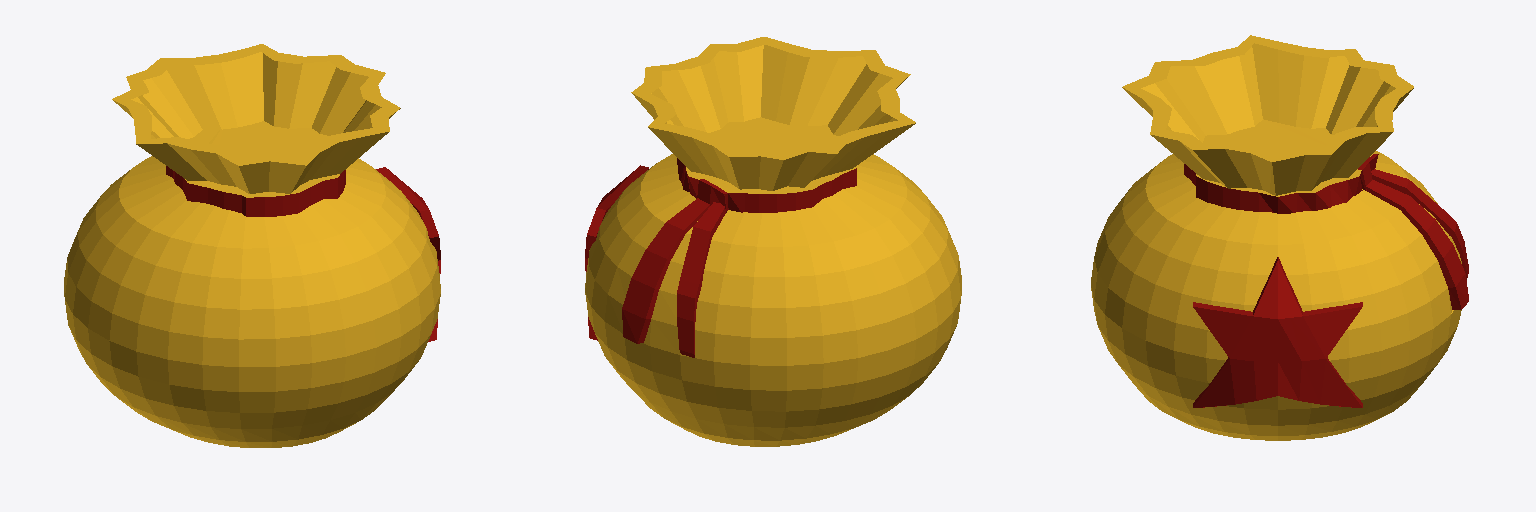
3 renders of one model, left to right at view 1: azimuth 30°, elevation 25°; view 2: azimuth 150°, elevation 25°; view 3: azimuth 270°, elevation 25°, orthographic.
Parts seen in each view (by area): view 1: cuerpo_Sphere, superior_Cone, correa_Cylinder.001, estrella_Cube.002; view 2: cuerpo_Sphere, superior_Cone, correa_Cylinder.001, estrella_Cube.002; view 3: cuerpo_Sphere, superior_Cone, estrella_Cube.002, correa_Cylinder.001.
Part boxes in pixels (bbox=[...]): cuerpo_Sphere: bbox=[64, 156, 440, 447]; superior_Cone: bbox=[112, 44, 400, 193]; correa_Cylinder.001: bbox=[166, 121, 345, 216]; estrella_Cube.002: bbox=[376, 167, 440, 341]; cuerpo_Sphere: bbox=[585, 154, 961, 446]; superior_Cone: bbox=[631, 37, 915, 190]; correa_Cylinder.001: bbox=[677, 117, 856, 212]; estrella_Cube.002: bbox=[585, 165, 648, 340]; cuerpo_Sphere: bbox=[1091, 151, 1468, 440]; superior_Cone: bbox=[1122, 35, 1413, 195]; estrella_Cube.002: bbox=[1193, 257, 1362, 407]; correa_Cylinder.001: bbox=[1184, 119, 1378, 213].
Bounding box in the file's own units: 3.4 × 2.98 × 3.3.
Materials: 4 (1 with a texture image).